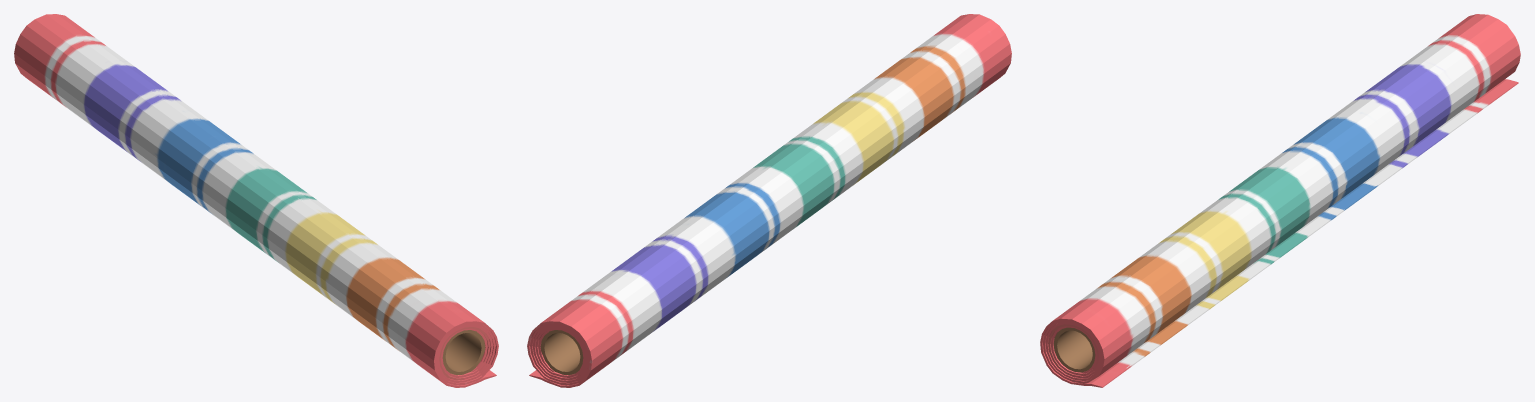
Rendered from updated_wrapping_paper_bat.fbx.
The picture shows the model from 3 angles, left to right: view 1: azimuth 30°, elevation 25°; view 2: azimuth 150°, elevation 25°; view 3: azimuth 330°, elevation 25°; orthographic projection.
Visible parts, largest first — view 1: Wrapping papper bat; view 2: Wrapping papper bat; view 3: Wrapping papper bat.
Part boxes in pixels (x1,y1,x2,y2): Wrapping papper bat: [14, 14, 498, 387]; Wrapping papper bat: [527, 14, 1011, 387]; Wrapping papper bat: [1040, 14, 1520, 387].
Size of the model in its own units: 109 by 105 by 1217.
Materials: 1 (1 with a texture image).
